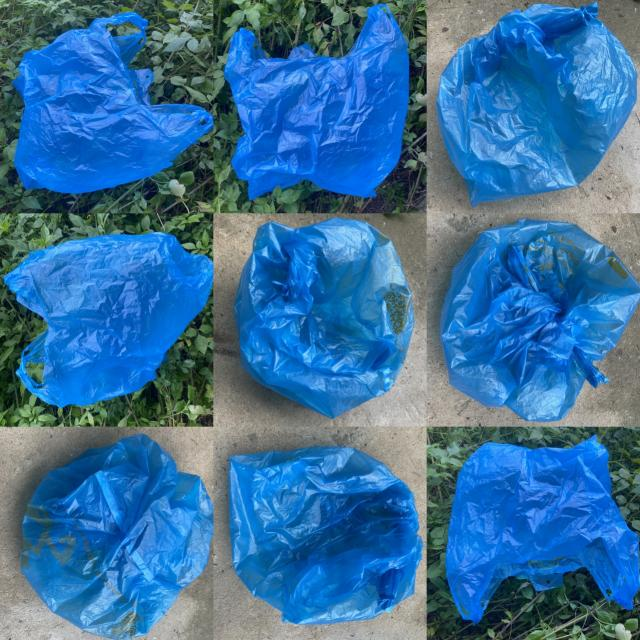Single-layer Plastic: (438, 2, 638, 206), (12, 434, 212, 638), (440, 218, 640, 420), (1, 226, 217, 406), (222, 439, 422, 624), (446, 436, 640, 622), (234, 218, 414, 418), (224, 5, 408, 199), (14, 13, 212, 193)
